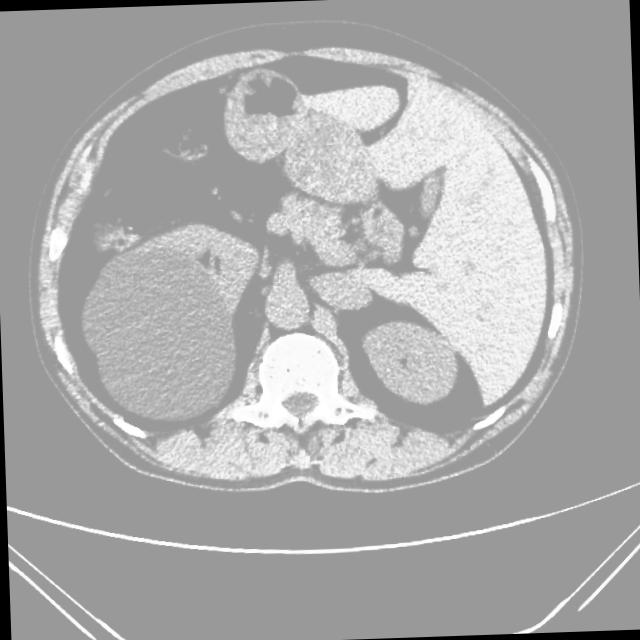cysts: (25, 29, 587, 502)
